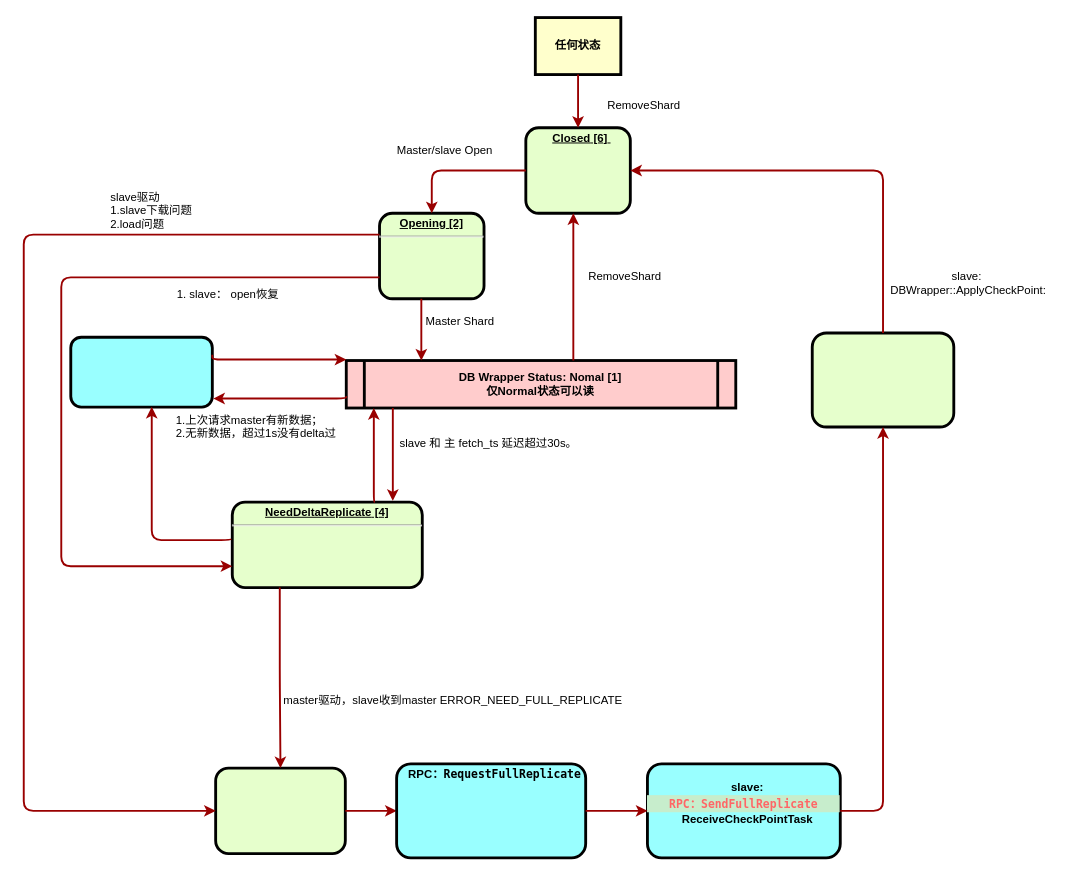
The diagram is 1066 pixels wide and 876 high, and some of its shapes have lost their labels. The centre of each missing label's shape, as x and y in pixels:
"DeltaTask" belongs at point (141, 371).
"InFullReplicate [5]" belongs at point (882, 379).
"NeedFullReplicate[3]" belongs at point (280, 810).
